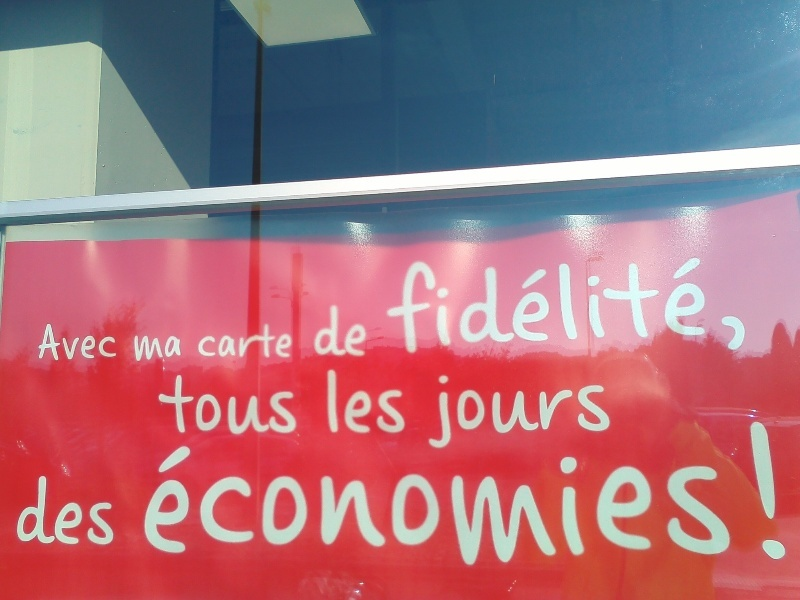text: (753, 414, 768, 568), (769, 414, 784, 568), (161, 443, 176, 572), (177, 443, 192, 572), (193, 443, 208, 572), (209, 443, 224, 572), (225, 443, 240, 572), (241, 443, 256, 572), (257, 443, 272, 572), (273, 443, 288, 572), (289, 443, 304, 572), (305, 443, 320, 572), (321, 443, 336, 572), (337, 443, 352, 572), (353, 443, 368, 572), (369, 443, 384, 572), (385, 443, 400, 572), (401, 443, 416, 572), (417, 443, 432, 572), (433, 443, 448, 572), (449, 443, 464, 572), (465, 443, 480, 572), (481, 443, 496, 572), (497, 443, 512, 572), (513, 443, 528, 572), (529, 443, 544, 572), (545, 443, 560, 572), (561, 443, 576, 572), (577, 443, 592, 572), (593, 443, 608, 572), (609, 443, 624, 572), (625, 443, 640, 572), (641, 443, 656, 572), (657, 443, 672, 572), (673, 443, 688, 572), (689, 443, 704, 572), (705, 443, 720, 572), (147, 443, 160, 572), (721, 443, 734, 572), (385, 255, 400, 359), (401, 255, 416, 359), (417, 255, 432, 359), (433, 255, 448, 359), (449, 255, 464, 359), (465, 255, 480, 359), (481, 255, 496, 359), (497, 255, 512, 359), (513, 255, 528, 359), (529, 255, 544, 359), (545, 255, 560, 359), (561, 255, 576, 359), (577, 255, 592, 359), (593, 255, 608, 359), (609, 255, 624, 359), (625, 255, 640, 359), (641, 255, 656, 359), (657, 255, 672, 359), (673, 255, 688, 359), (689, 255, 704, 359), (705, 255, 720, 359), (721, 255, 736, 359), (737, 255, 752, 359), (743, 414, 752, 568), (785, 414, 793, 568), (433, 374, 448, 450), (449, 374, 464, 450), (465, 374, 480, 450), (481, 374, 496, 450), (497, 374, 512, 450), (513, 374, 528, 450), (529, 374, 544, 450), (545, 374, 560, 450), (561, 374, 576, 450), (577, 374, 592, 450), (593, 374, 608, 450), (33, 473, 48, 548), (49, 473, 64, 548), (65, 473, 80, 548), (81, 473, 96, 548), (97, 473, 112, 548), (337, 367, 352, 436), (353, 367, 368, 436), (369, 367, 384, 436), (385, 367, 400, 436), (161, 372, 176, 439), (177, 372, 192, 439), (193, 372, 208, 439), (209, 372, 224, 439), (225, 372, 240, 439), (241, 372, 256, 439), (257, 372, 272, 439), (273, 372, 288, 439), (20, 473, 32, 548), (323, 367, 336, 436), (321, 302, 336, 357), (337, 302, 352, 357), (353, 302, 368, 357), (289, 372, 298, 439), (209, 320, 224, 360), (225, 320, 240, 360), (241, 320, 256, 360), (257, 320, 272, 360), (273, 320, 288, 360), (49, 324, 64, 361), (65, 324, 80, 361), (81, 324, 96, 361), (97, 324, 112, 361), (113, 473, 120, 548), (401, 367, 408, 436), (196, 320, 208, 360), (145, 334, 160, 364), (161, 334, 176, 364), (133, 334, 144, 364), (289, 320, 297, 360), (381, 255, 384, 359), (609, 374, 613, 450), (315, 302, 320, 357), (113, 324, 119, 361), (43, 324, 48, 361), (177, 334, 183, 364), (431, 374, 432, 450), (159, 372, 160, 439), (369, 302, 370, 357)
